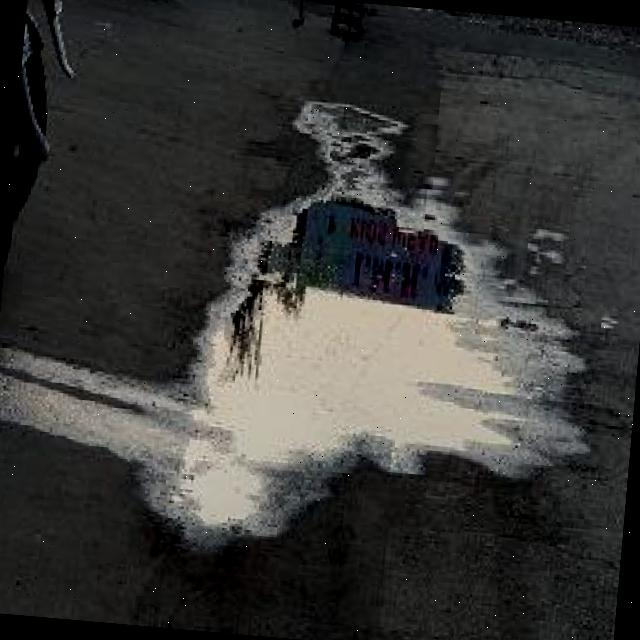stagnation: (187, 139, 580, 507)
